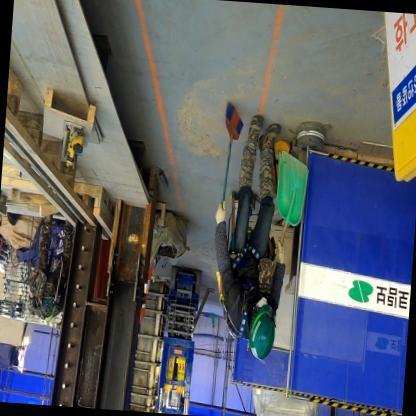Helmet: (243, 297, 285, 361)
safety-shoe: (239, 107, 265, 151), (260, 117, 283, 161)
